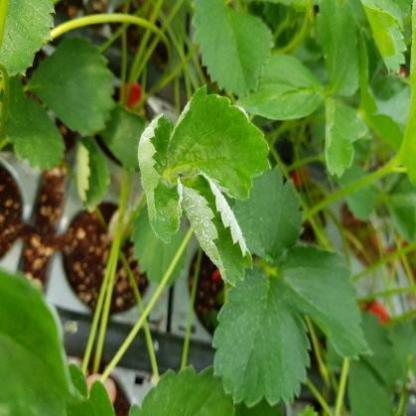Strawberry_Powdery_Mildew_Leaf: (160, 83, 272, 200), (180, 176, 254, 286), (136, 114, 184, 246)
